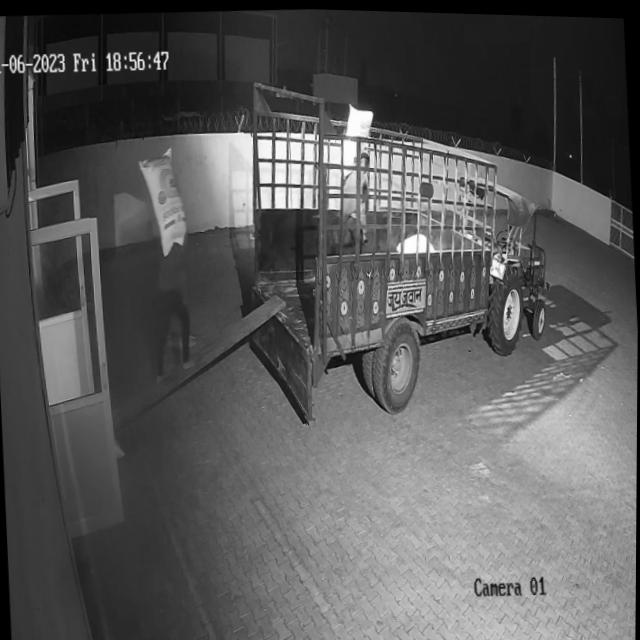sack: (138, 144, 189, 257)
